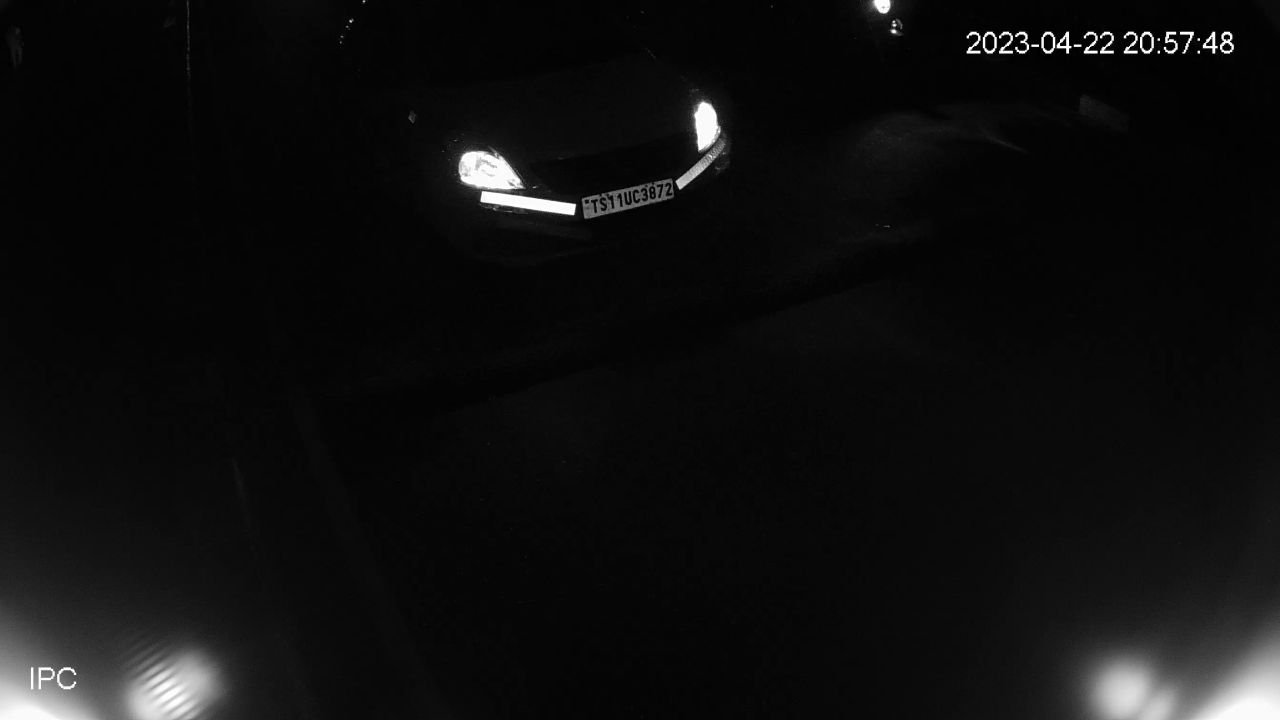license_plate: (579, 172, 675, 230)
